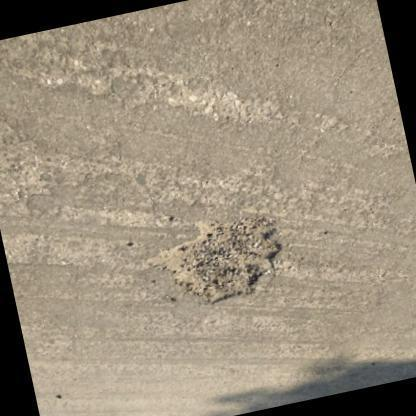pothole: (156, 208, 285, 302), (153, 82, 261, 127)
